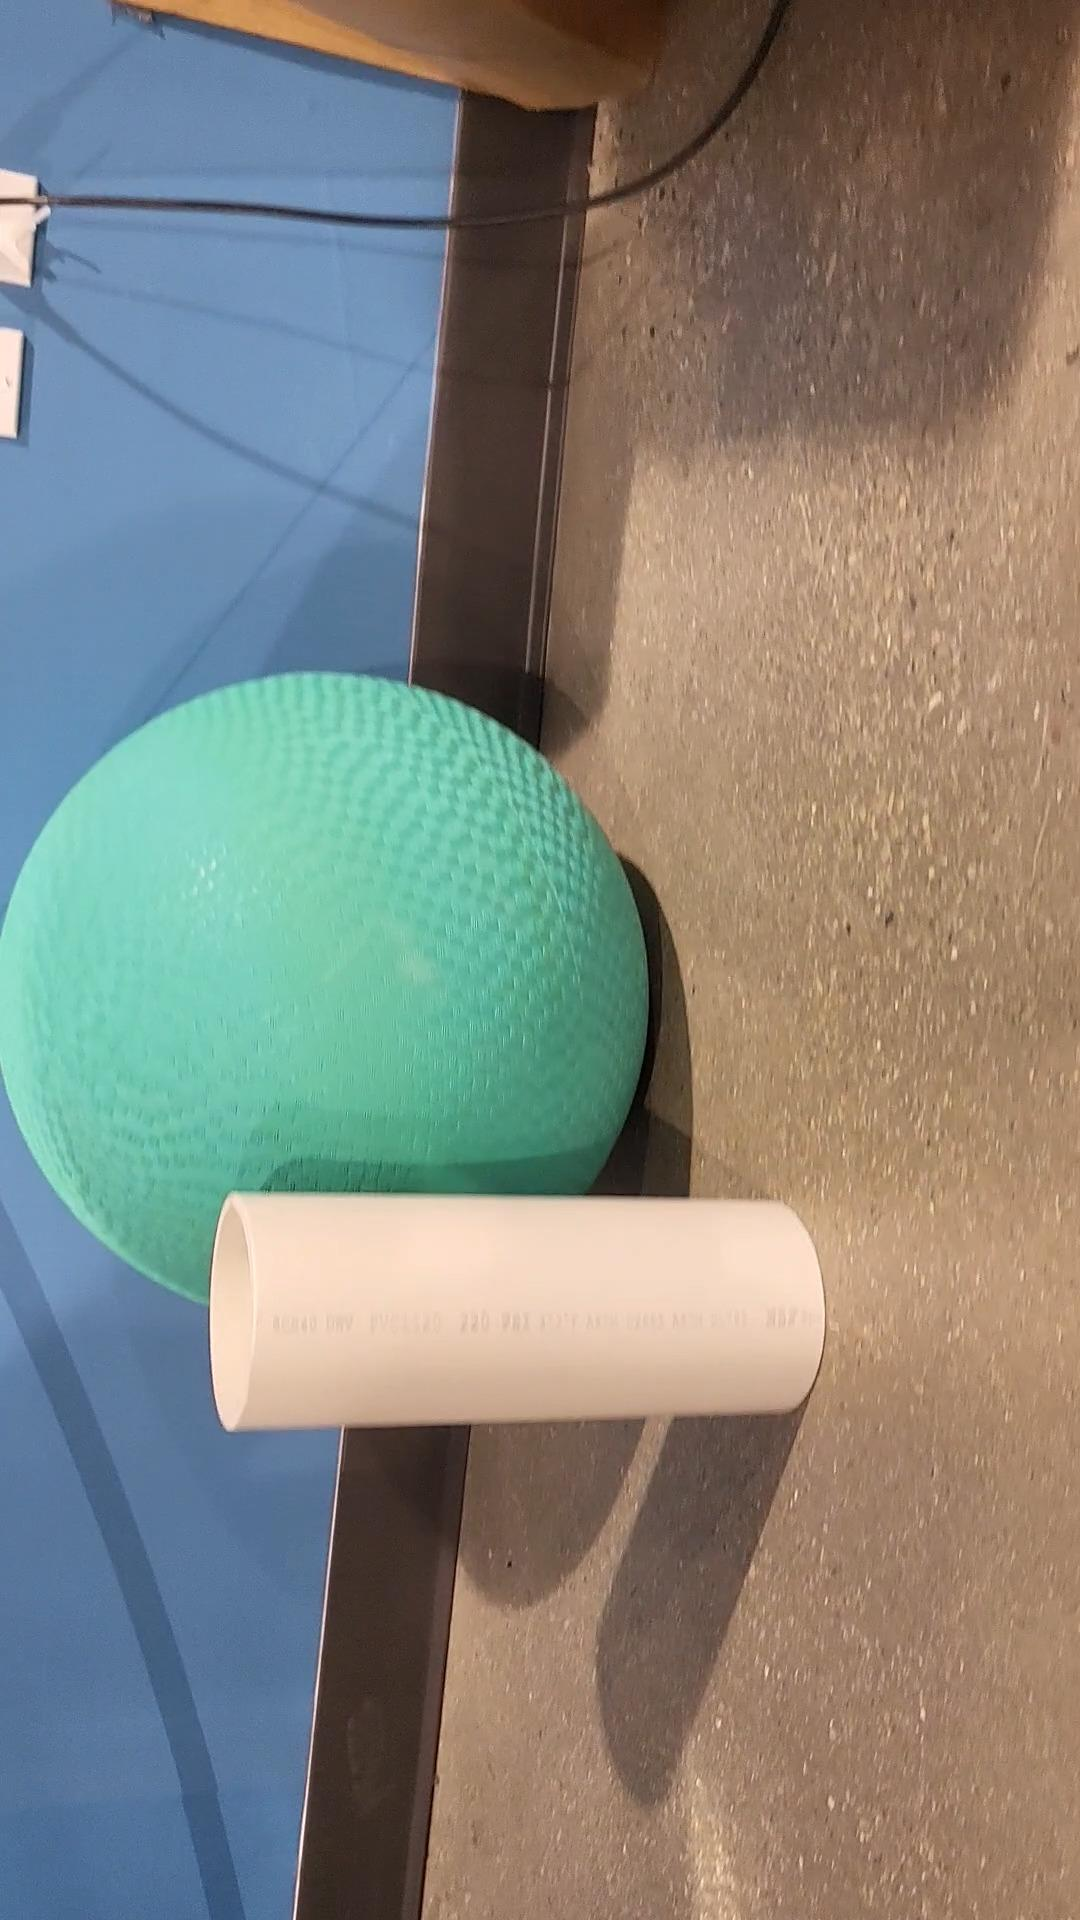algae: (0, 670, 655, 1309)
coral: (215, 1195, 828, 1425)
